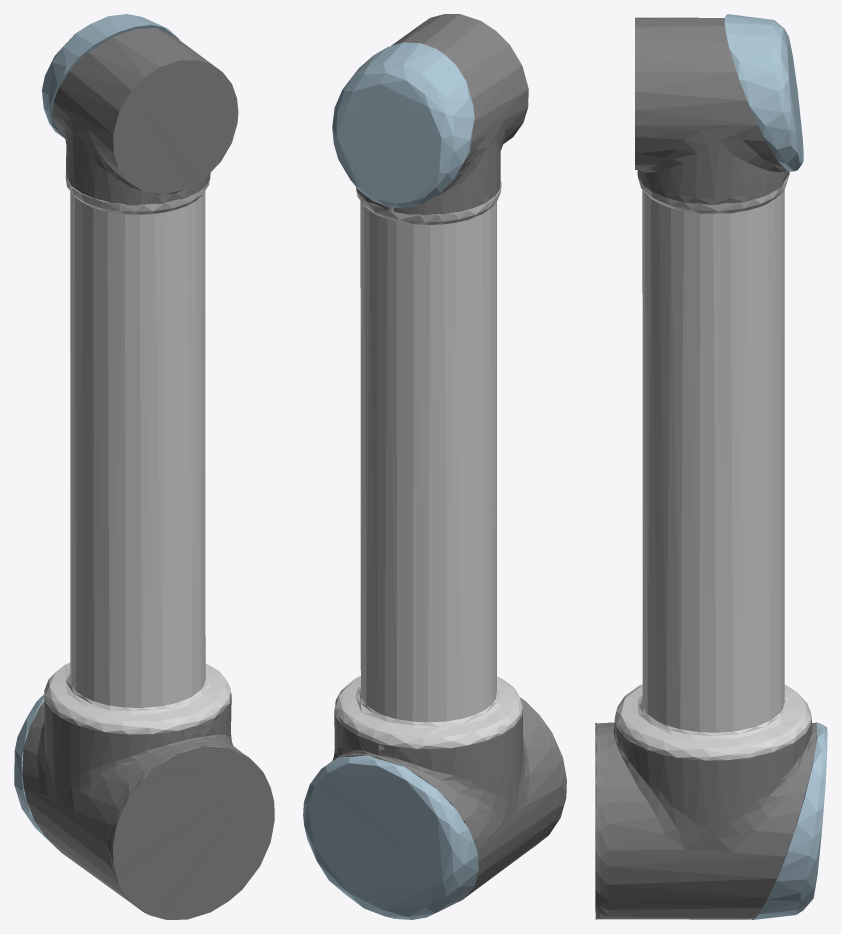
Rendered from upperarm.dae.
3 renders of one model, left to right at view 1: azimuth 30°, elevation 25°; view 2: azimuth 150°, elevation 25°; view 3: azimuth 270°, elevation 25°, orthographic. The views are drawn at different scales.
Visible parts, largest first — view 1: node-shape3-name, node-shape0-name, node-shape1-name.001, node-shape1-name; view 2: node-shape3-name, node-shape0-name, node-shape1-name, node-shape1-name.001; view 3: node-shape3-name, node-shape0-name, node-shape1-name.001, node-shape1-name.
Part boxes in pixels (x1,y1,x2,y2): node-shape3-name: (44, 173, 230, 734); node-shape0-name: (22, 28, 274, 919); node-shape1-name.001: (42, 14, 179, 138); node-shape1-name: (14, 694, 61, 852); node-shape3-name: (335, 180, 522, 748); node-shape0-name: (329, 14, 566, 898); node-shape1-name: (303, 755, 478, 919); node-shape1-name.001: (332, 42, 474, 208); node-shape3-name: (615, 170, 811, 760); node-shape0-name: (595, 17, 817, 919); node-shape1-name.001: (724, 14, 803, 171); node-shape1-name: (752, 722, 827, 919).
Bounding box in the file's own units: 0.1506 × 0.177 × 0.7483.
